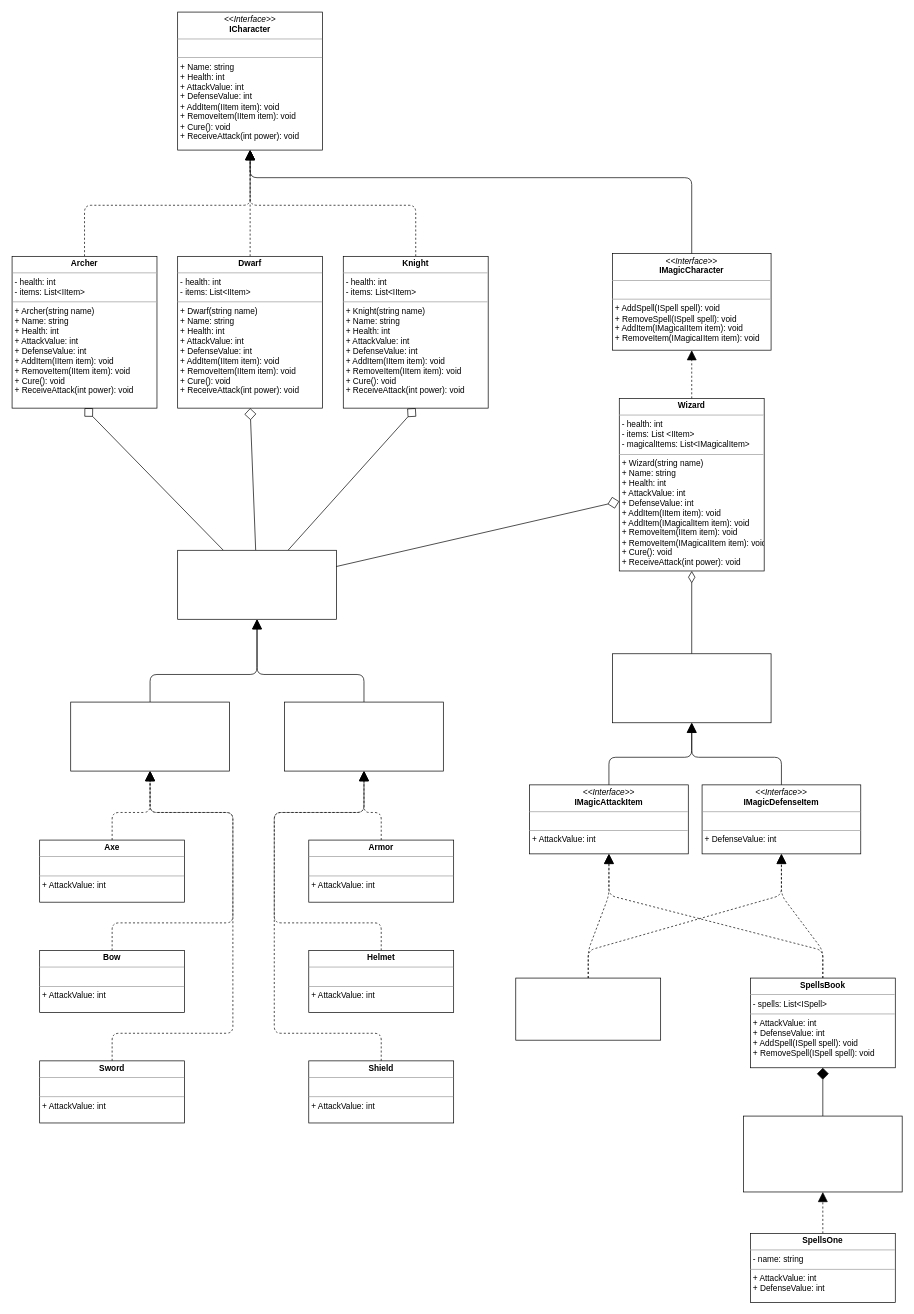
The diagram is 914 pixels wide and 1314 high, and some of its shapes have lost their labels. Here are the shapes that lost their labels. From the top down, the centre of each, then its label:
At (256,584): "<<Interface>> IItem".
At (691,688): "<<Interface>> IMagicItem".
At (149,736): "<<Interface>> IAttackItem + AttackValue: int".
At (363,736): "<<Interface>> IDefenseItem + DefenseValue: int".
At (588,1008): "Staff + AttackValue: int + DefenseValue: int".
At (822,1153): "<<Interface>> ISpell + AttackValue: int + DefenseValue: int".
